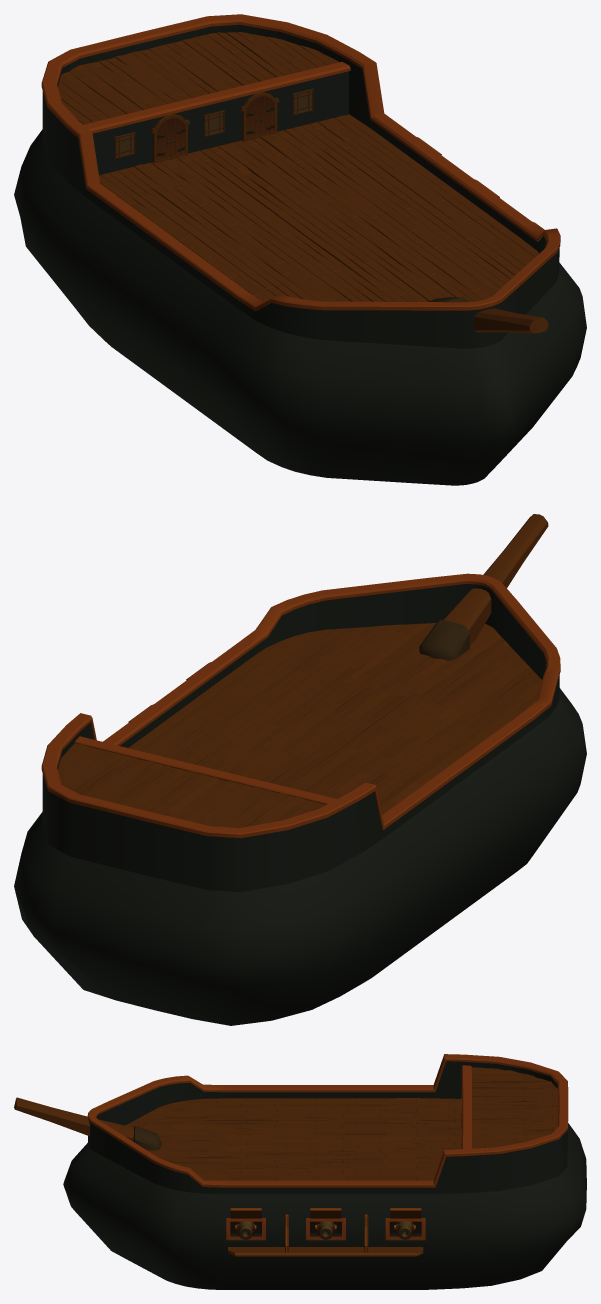
The model's file is Ships_parts_test.fbx.
3 renders of one model, top to bottom at view 1: azimuth 30°, elevation 25°; view 2: azimuth 150°, elevation 25°; view 3: azimuth 270°, elevation 25°, orthographic. The views are drawn at different scales.
Parts seen in each view (by area): view 1: Hull_Front.003, Hull_Center.004, Hull_Rear.003; view 2: Hull_Rear.003, Hull_Center.004, Hull_Front.003; view 3: Hull_Center.004, Hull_Rear.003, Hull_Front.003, Plane.114, Plane.112, Plane.113.
Boxes of the visible parts, x1,y1,x2,y2 form: Hull_Front.003: [219, 223, 586, 485]; Hull_Center.004: [74, 117, 544, 452]; Hull_Rear.003: [14, 14, 388, 345]; Hull_Rear.003: [14, 713, 408, 1025]; Hull_Center.004: [103, 642, 553, 977]; Hull_Front.003: [239, 514, 586, 871]; Hull_Center.004: [226, 1085, 425, 1289]; Hull_Rear.003: [425, 1054, 586, 1289]; Hull_Front.003: [14, 1075, 226, 1289]; Plane.114: [235, 1221, 256, 1239]; Plane.112: [394, 1221, 415, 1239]; Plane.113: [315, 1221, 336, 1239].
Size of the model in its own units: 25 by 14.55 by 51.26.
